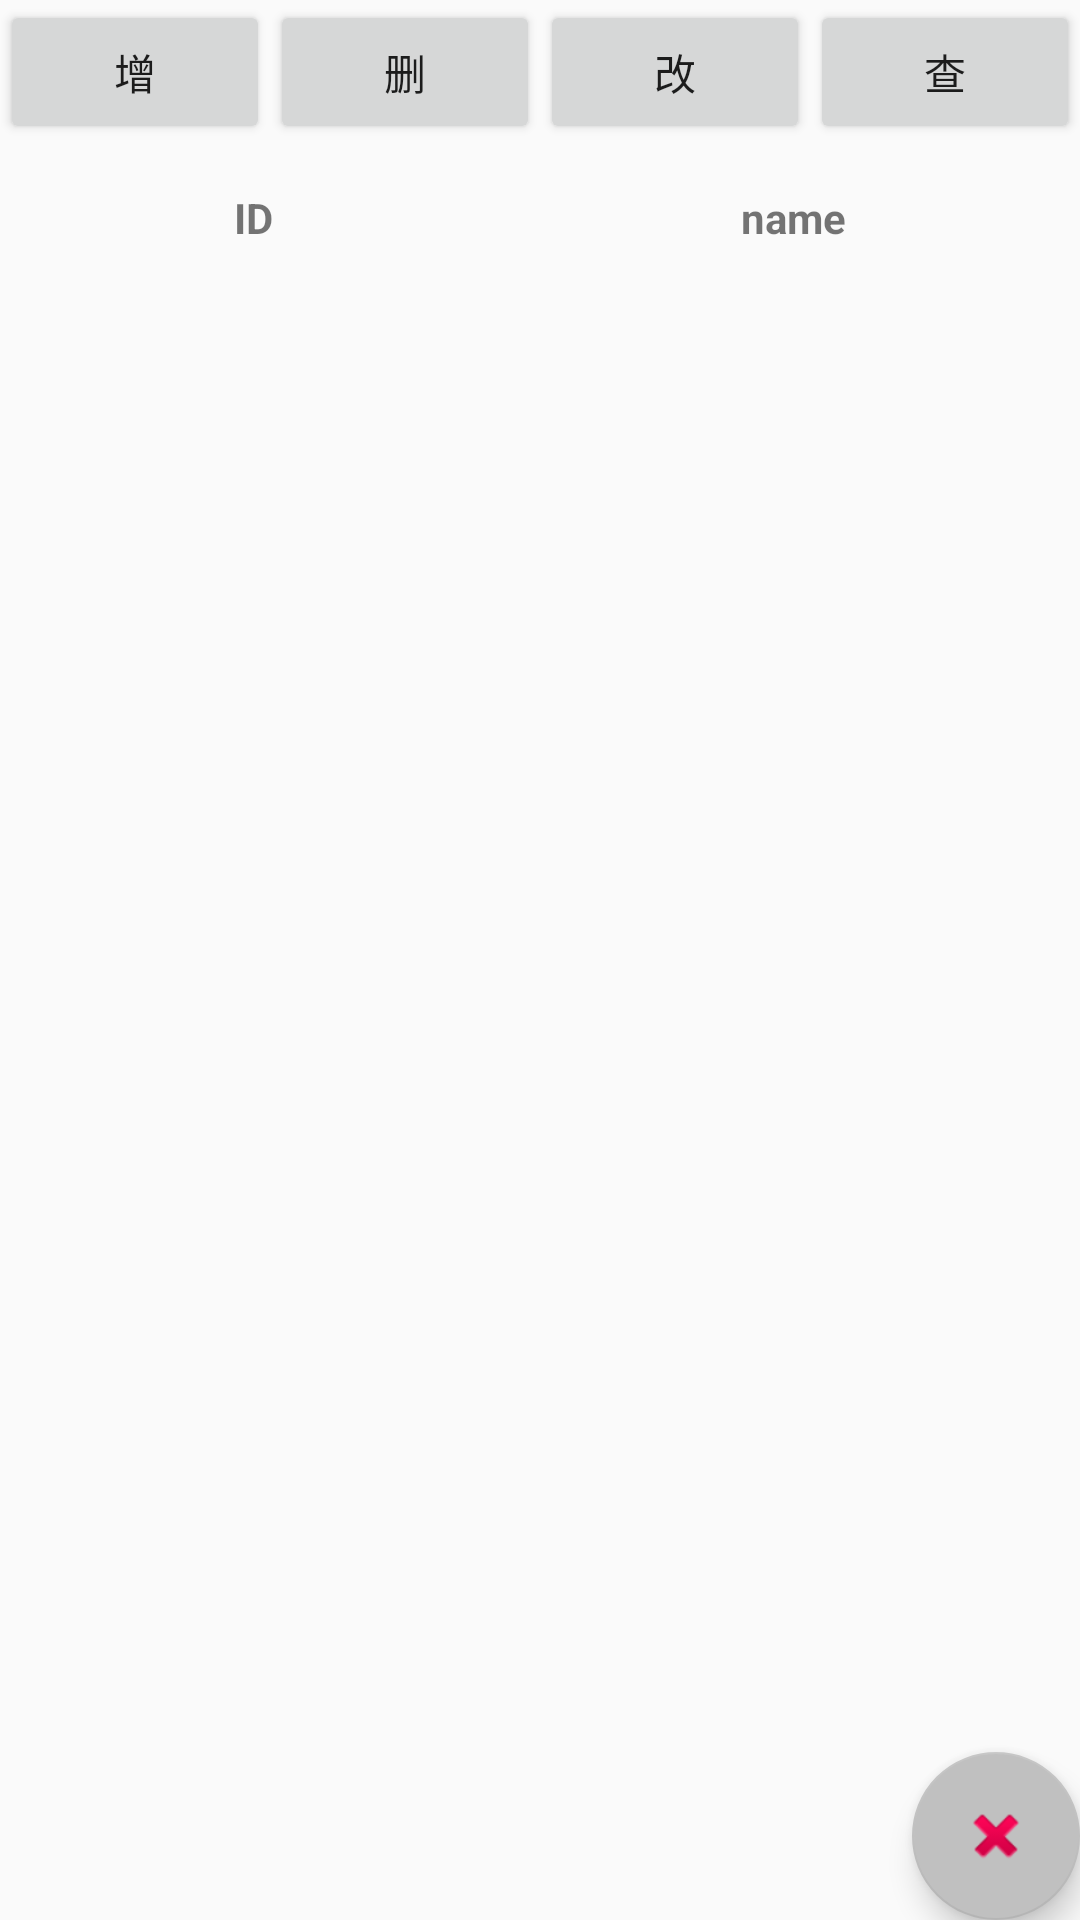

Icon bounding boxes for this 1080px×1920px phone screenshot, format (x1, y1, x2, y2):
delete: (912, 1752, 1080, 1920)
